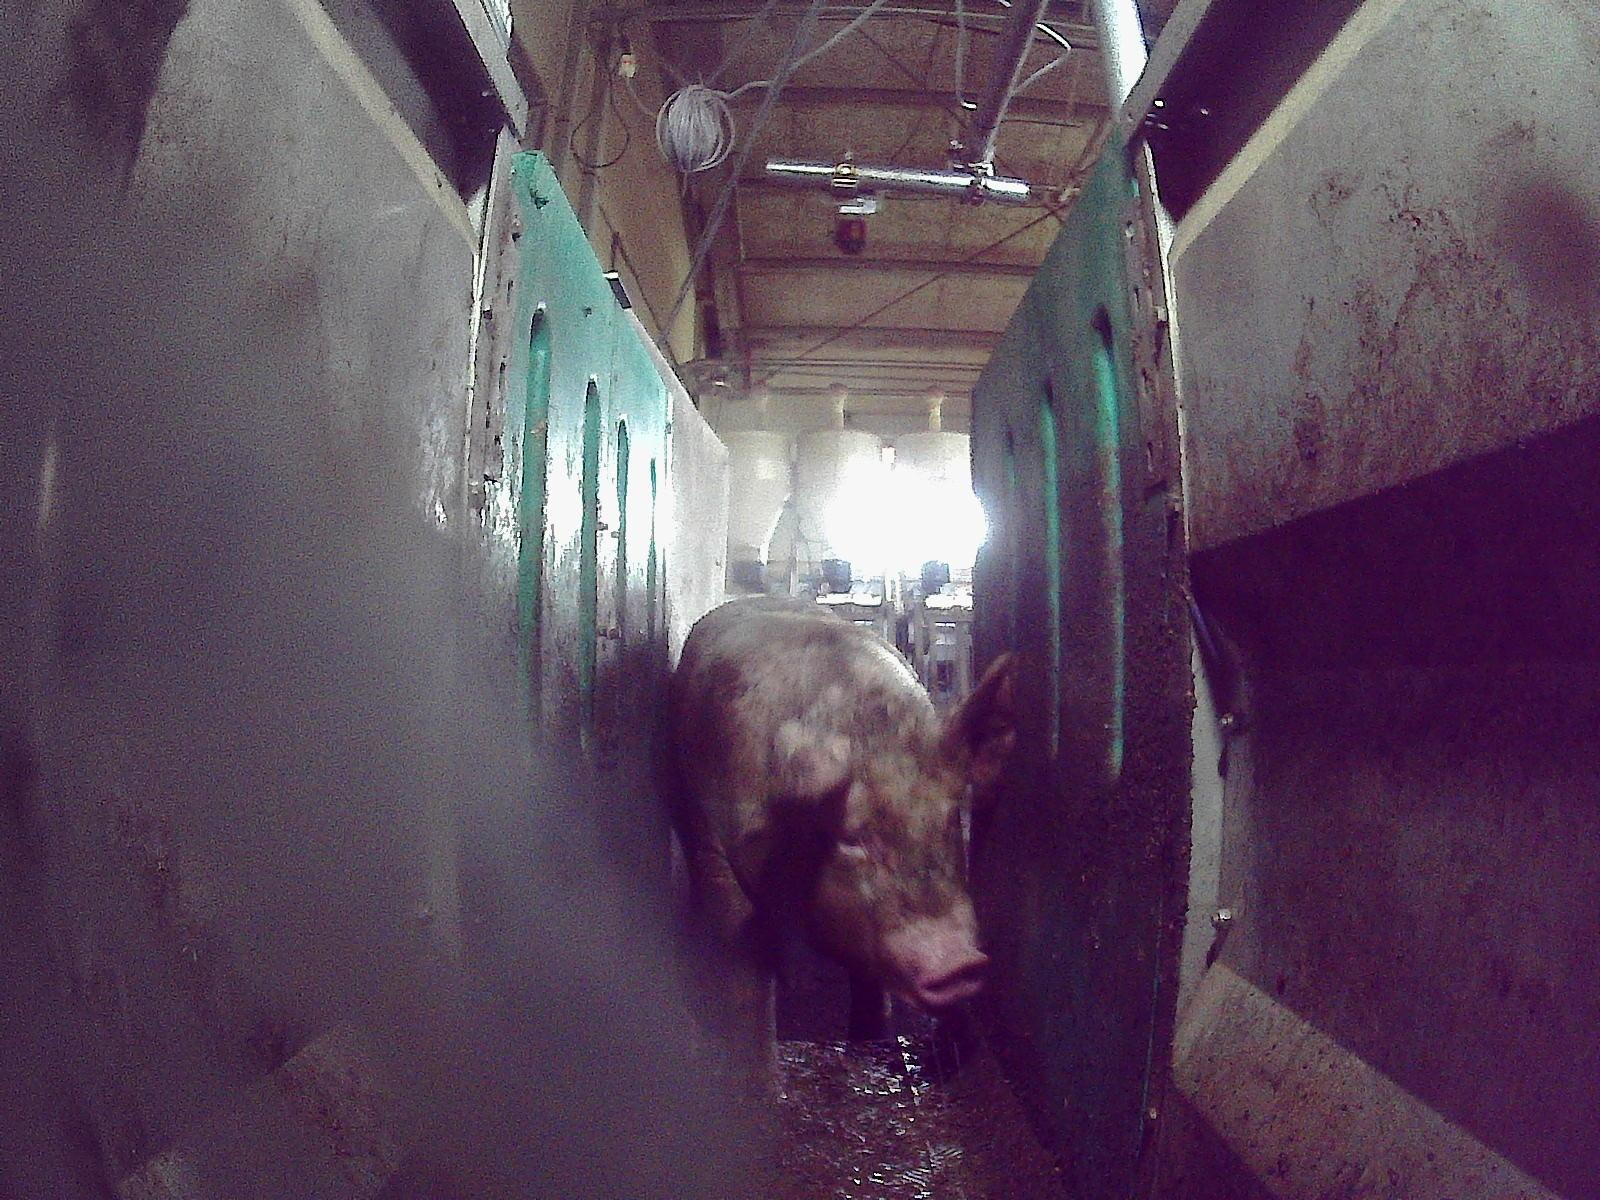Face: (790, 727, 986, 1008)
